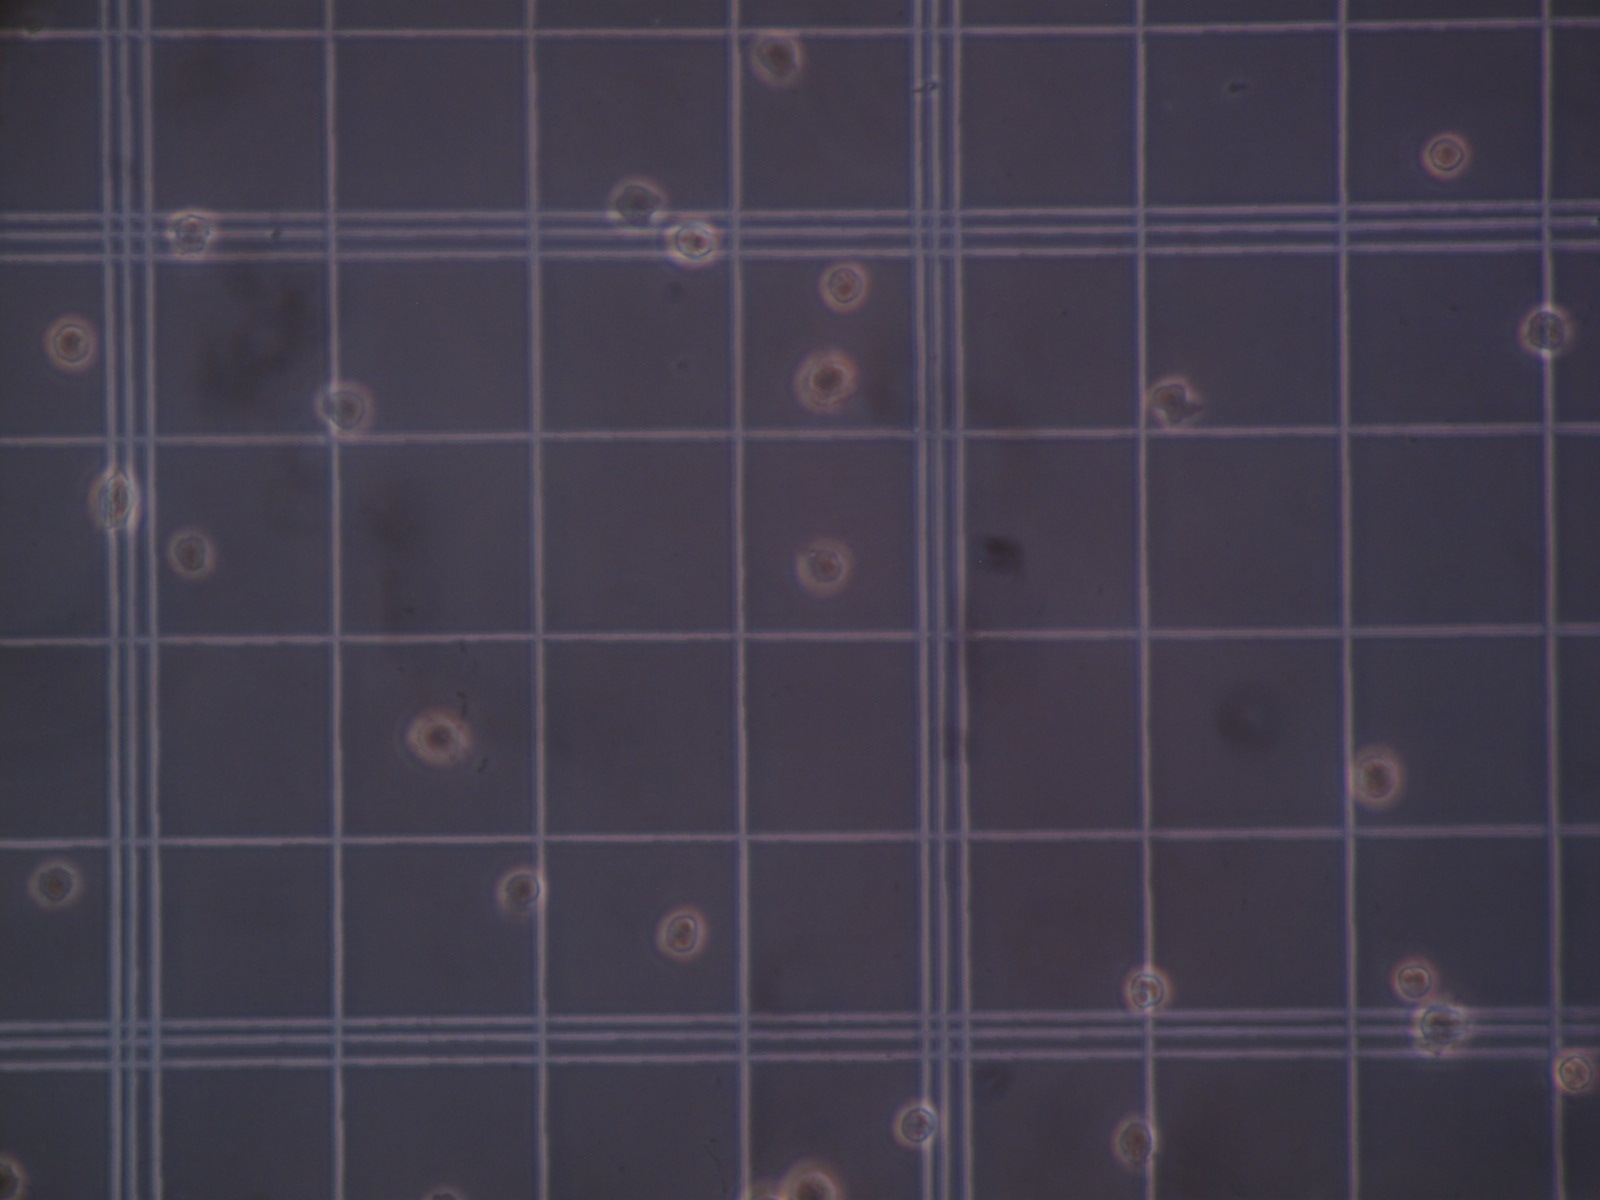hemo: (794, 352, 858, 415), (312, 379, 375, 439), (406, 710, 469, 766), (796, 536, 855, 595), (1410, 1003, 1469, 1060), (43, 313, 98, 373), (88, 464, 139, 529), (747, 30, 803, 88), (655, 906, 709, 962), (610, 176, 666, 228), (1351, 747, 1400, 804), (1112, 1113, 1162, 1168), (779, 1158, 843, 1200), (1519, 305, 1571, 355), (28, 860, 81, 909), (668, 219, 721, 268), (1120, 966, 1170, 1016), (819, 263, 869, 314), (168, 527, 217, 579), (166, 211, 214, 261), (892, 1099, 941, 1146), (1422, 132, 1469, 179), (496, 868, 546, 911), (1392, 959, 1439, 1003), (1552, 1049, 1596, 1094), (1150, 376, 1191, 416)
